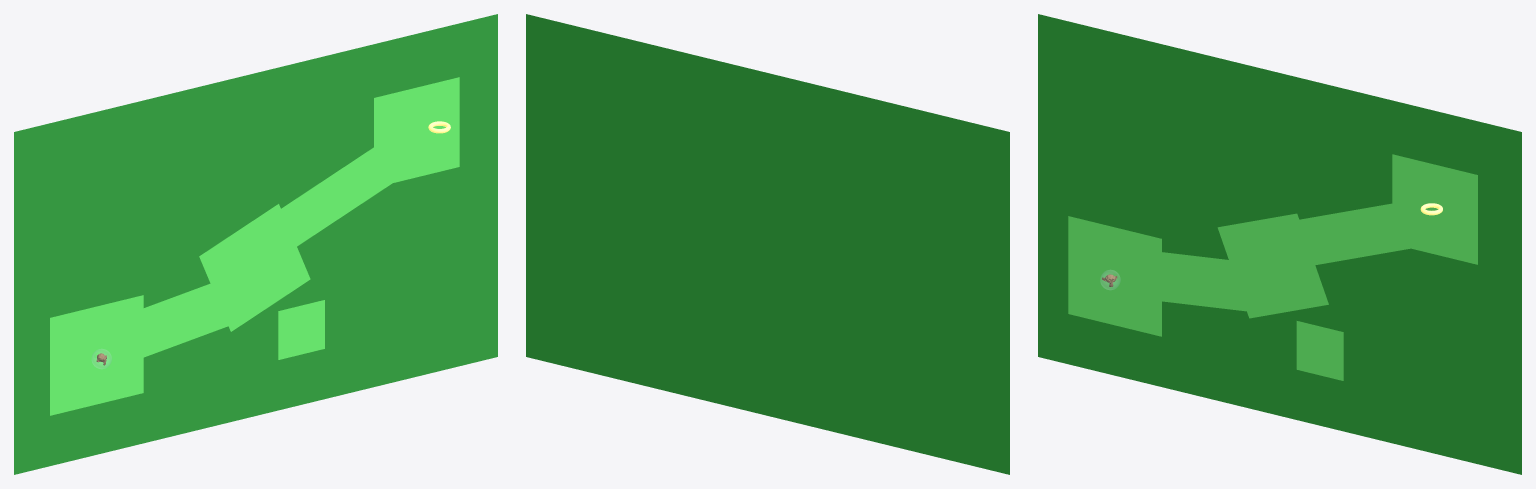
The model's file is monkeyball_course.gltf.
3 views of the same model, side by side, from view 1: azimuth 30°, elevation 25°; view 2: azimuth 150°, elevation 25°; view 3: azimuth 330°, elevation 25° (orthographic).
Visible parts, largest first — view 1: TableBase, GoalPad, StartPad, CornerPad, StraightA, StraightB, SideIsland; view 2: TableBase; view 3: TableBase, StartPad, GoalPad, CornerPad, StraightA, StraightB, SideIsland.
Part boxes in pixels (bbox=[...]): TableBase: bbox=[14, 14, 497, 474]; GoalPad: bbox=[374, 77, 459, 187]; StartPad: bbox=[50, 295, 143, 415]; CornerPad: bbox=[199, 204, 310, 331]; StraightA: bbox=[100, 280, 237, 371]; StraightB: bbox=[272, 147, 402, 256]; SideIsland: bbox=[278, 300, 324, 359]; TableBase: bbox=[526, 14, 1009, 474]; TableBase: bbox=[1038, 14, 1521, 474]; StartPad: bbox=[1068, 216, 1161, 336]; GoalPad: bbox=[1392, 154, 1477, 264]; CornerPad: bbox=[1217, 213, 1328, 318]; StraightA: bbox=[1119, 247, 1255, 312]; StraightB: bbox=[1284, 203, 1417, 267]; SideIsland: bbox=[1296, 321, 1343, 380].
Size of the model in its own units: 24.8 by 16.8 by 1.91.
